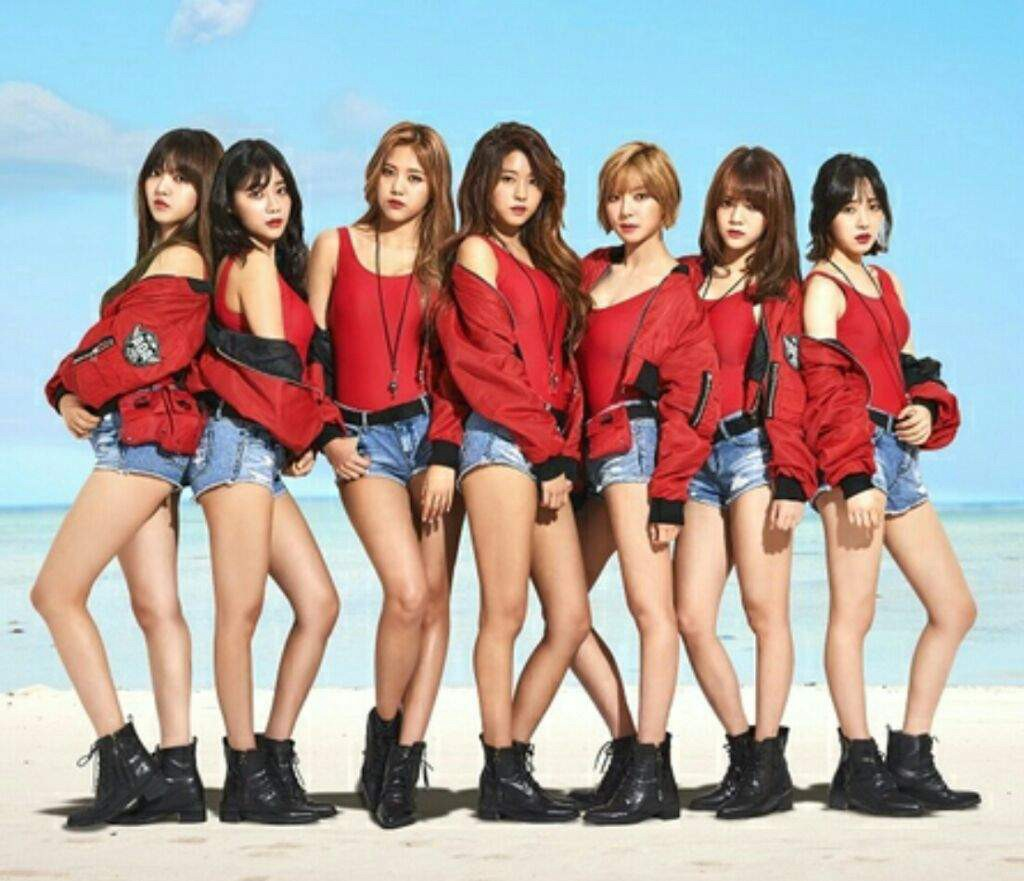people: (799, 145, 973, 810), (68, 118, 222, 829), (325, 118, 455, 841), (208, 135, 342, 832), (468, 118, 582, 823), (580, 139, 699, 809), (699, 145, 803, 825)
